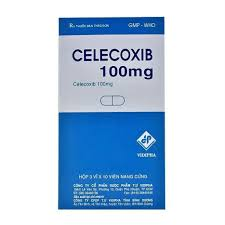Celecoxip: (71, 47, 152, 62)
